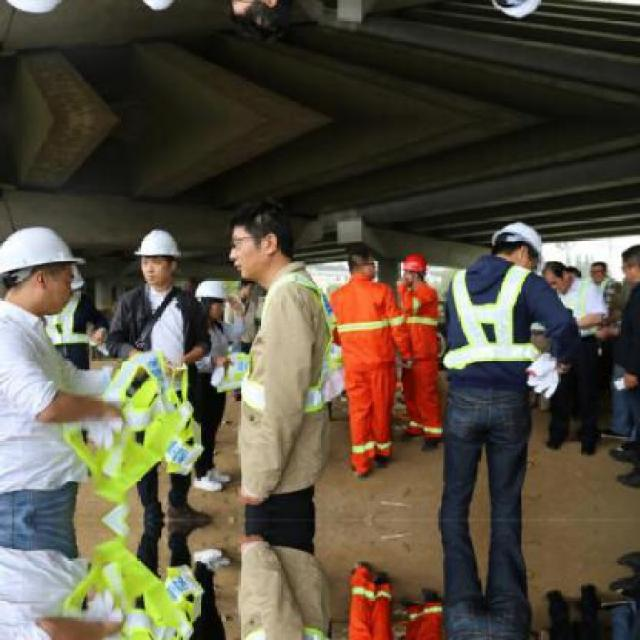Reflective-Jacket: (58, 348, 197, 497), (62, 524, 226, 640), (236, 262, 342, 424), (440, 260, 551, 377), (326, 277, 397, 378), (390, 282, 444, 369)
Safety-Helmet: (1, 219, 91, 286), (483, 214, 552, 266), (128, 222, 189, 266), (190, 272, 236, 311), (395, 248, 434, 282), (617, 234, 640, 269)
